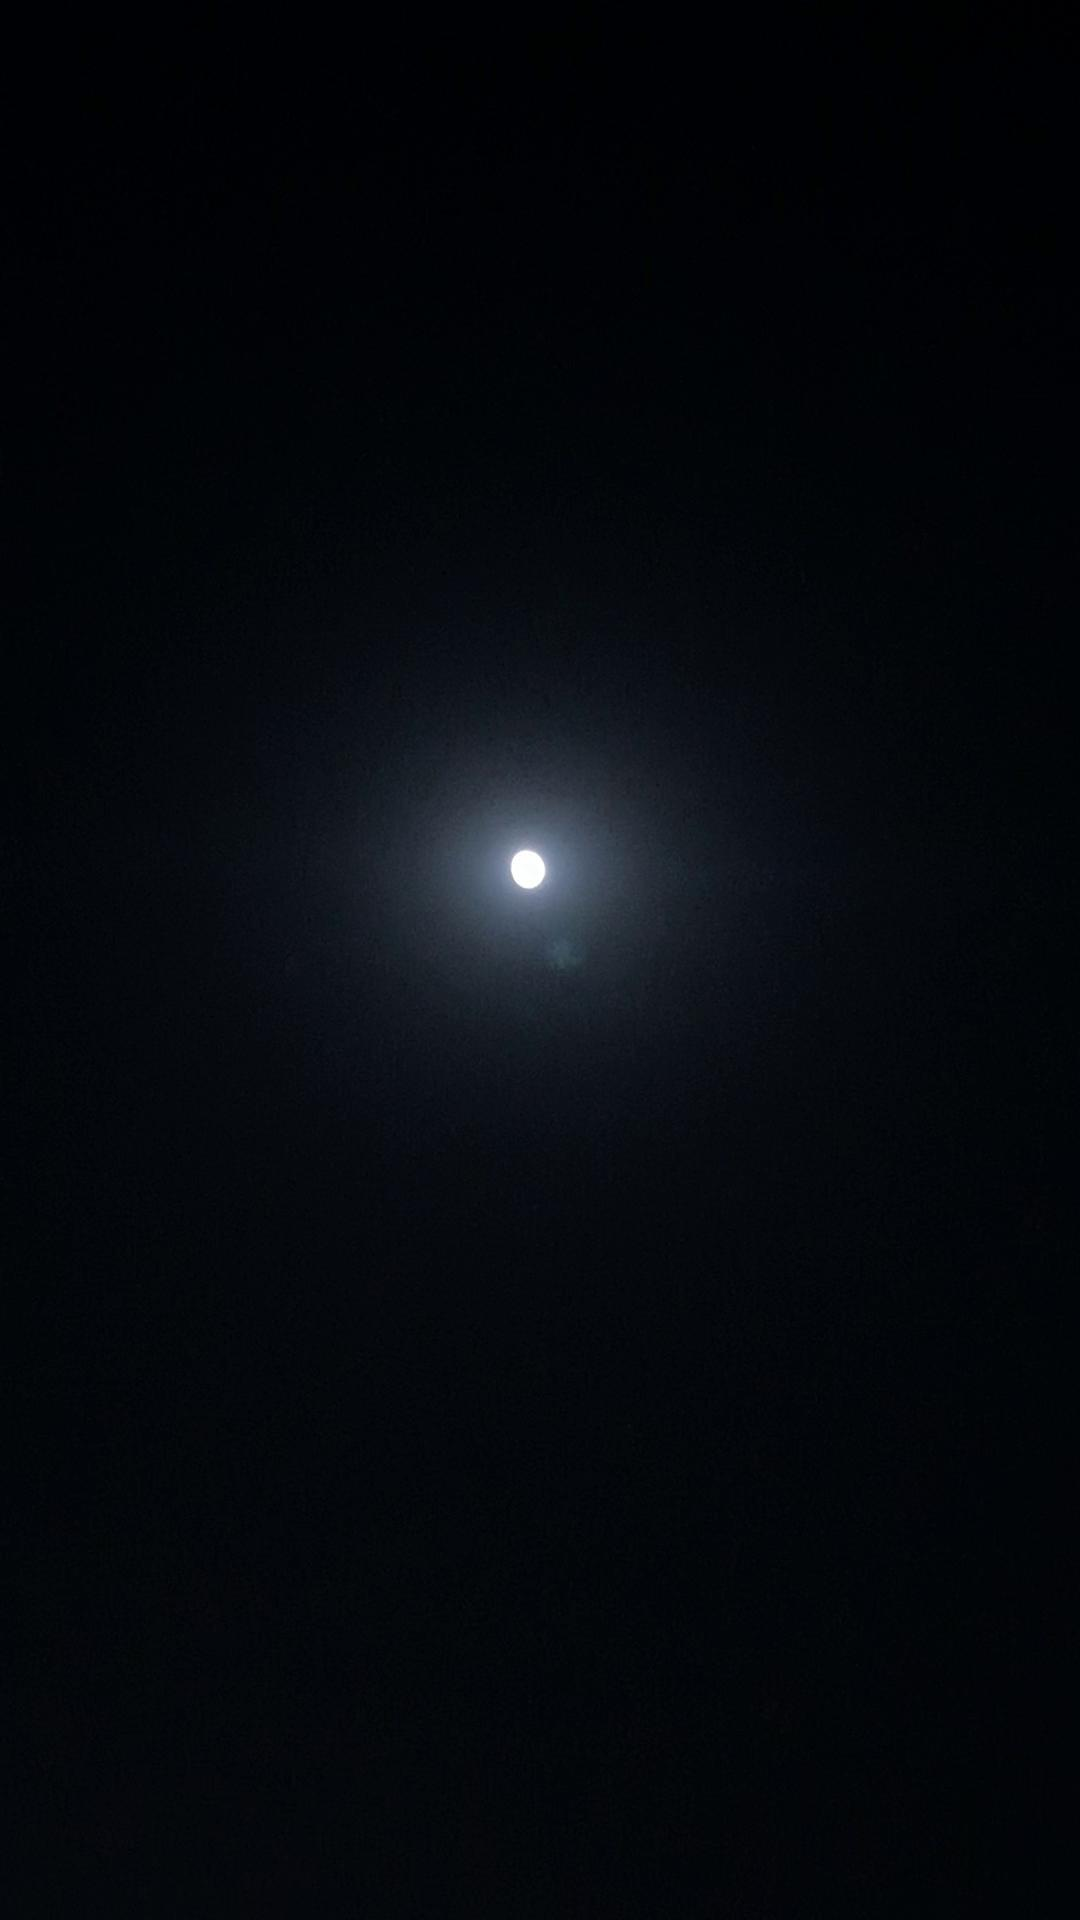moon: (484, 824, 571, 920)
